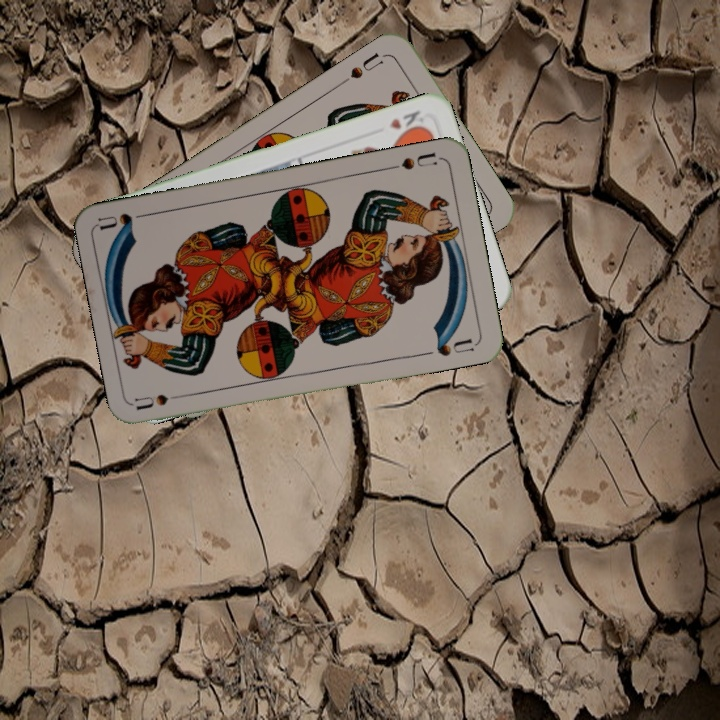HK: (385, 106, 427, 138)
SU: (336, 48, 389, 88), (132, 389, 192, 413), (384, 148, 438, 173)
